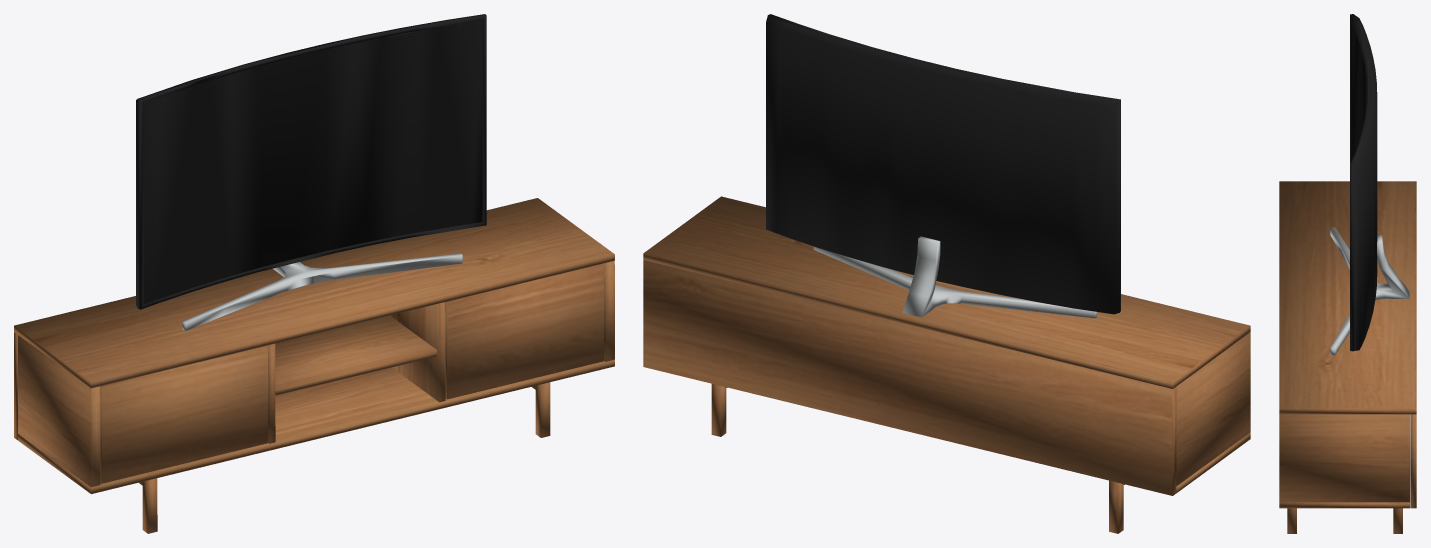
File: tv_cabinet.glb
3 renders of one model, left to right at view 1: azimuth 30°, elevation 25°; view 2: azimuth 150°, elevation 25°; view 3: azimuth 270°, elevation 25°, orthographic. The views are drawn at different scales.
Visible parts, largest first — view 1: tv_on_cabinet; view 2: tv_on_cabinet; view 3: tv_on_cabinet.
Boxes of the visible parts, <box> form: tv_on_cabinet: <box>14,14,614,533</box>; tv_on_cabinet: <box>643,14,1250,533</box>; tv_on_cabinet: <box>1279,14,1416,533</box>.
Size of the model in its own units: 160 by 117 by 40.88.
2 materials, 2 textured.
